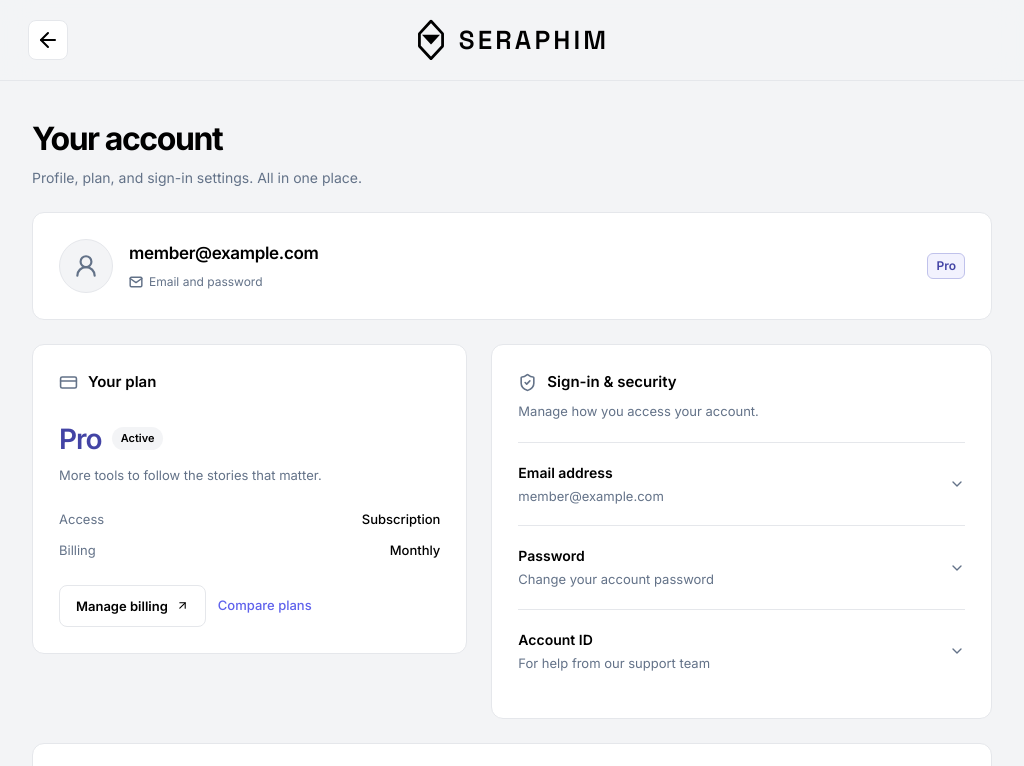
Test case: Account page › reports billing portal failures inline and allows a retry
Click the button "Manage billing" at (132, 606), box [59,585,206,627]
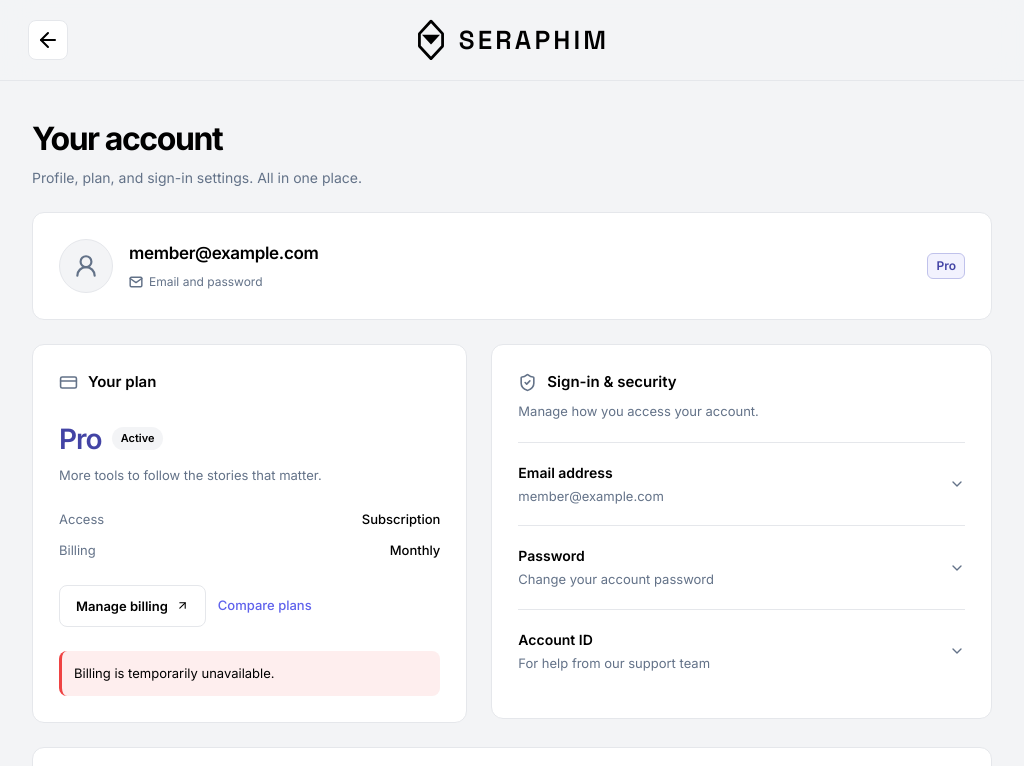
Check: the message reads "Billing is temporarily unavailable.", box [74,665,274,681]
